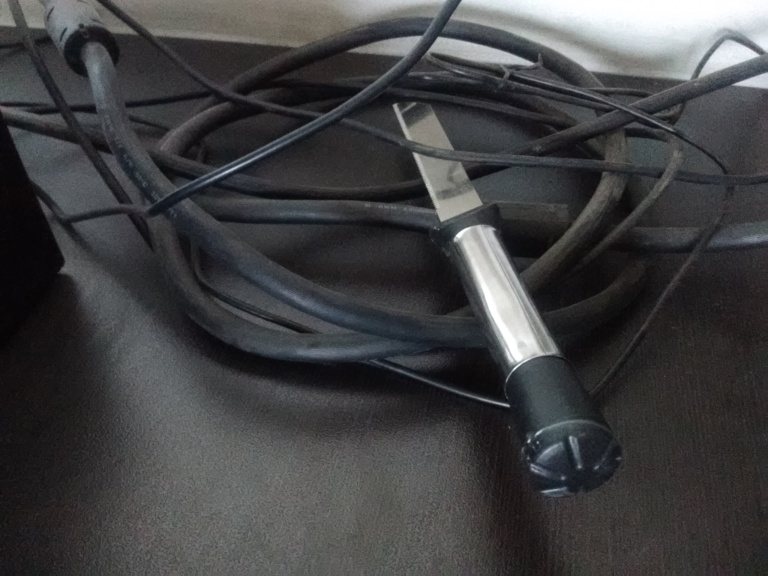knife: (392, 97, 623, 503)
